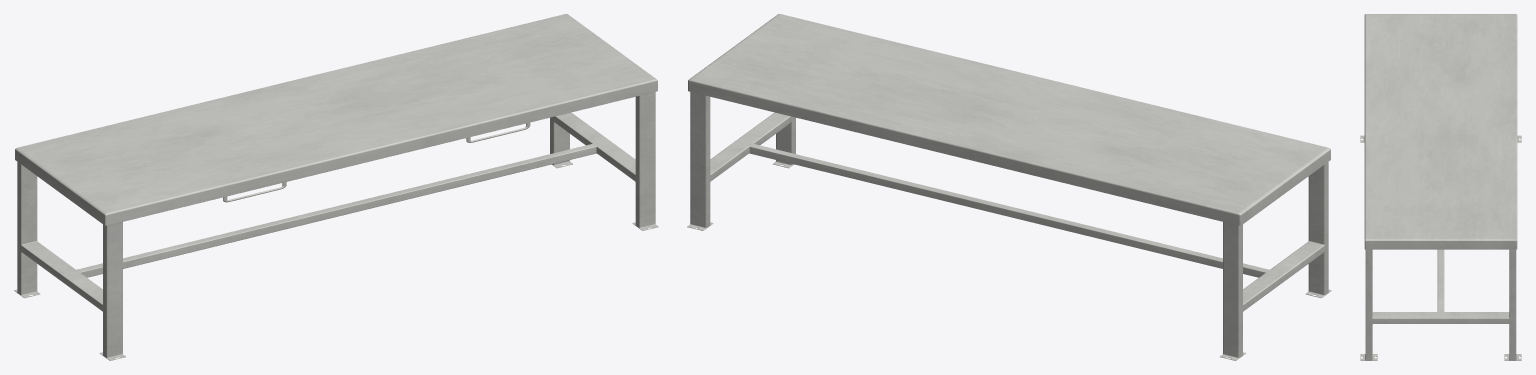
File: chair.glb
3 renders of one model, left to right at view 1: azimuth 30°, elevation 25°; view 2: azimuth 150°, elevation 25°; view 3: azimuth 270°, elevation 25°, orthographic. The views are drawn at different scales.
Parts seen in each view (by area): view 1: Metal Table; view 2: Metal Table; view 3: Metal Table.
Part boxes in pixels (x1,y1,x2,y2): Metal Table: [14, 14, 658, 360]; Metal Table: [687, 14, 1331, 360]; Metal Table: [1360, 14, 1521, 360].
Size of the model in its own units: 3.03 by 0.762 by 0.9124.
Materials: 1 (1 with a texture image).
